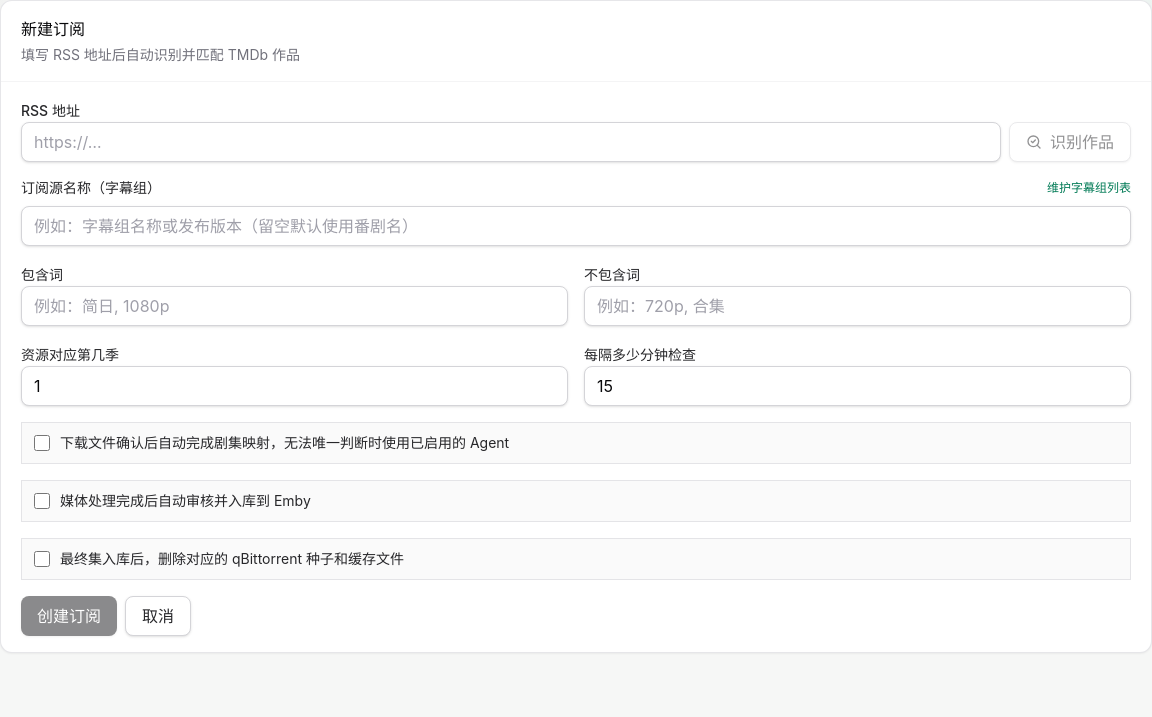
Scenario: CreateSubscriptionForm › uses the structured subtitle group extracted from the feed
The width and height of the screenshot is (1152, 717).
Type "https://feeds.example.test/show.xml" into the field labelled "RSS 地址" at (511, 142), box [21,122,1001,162]
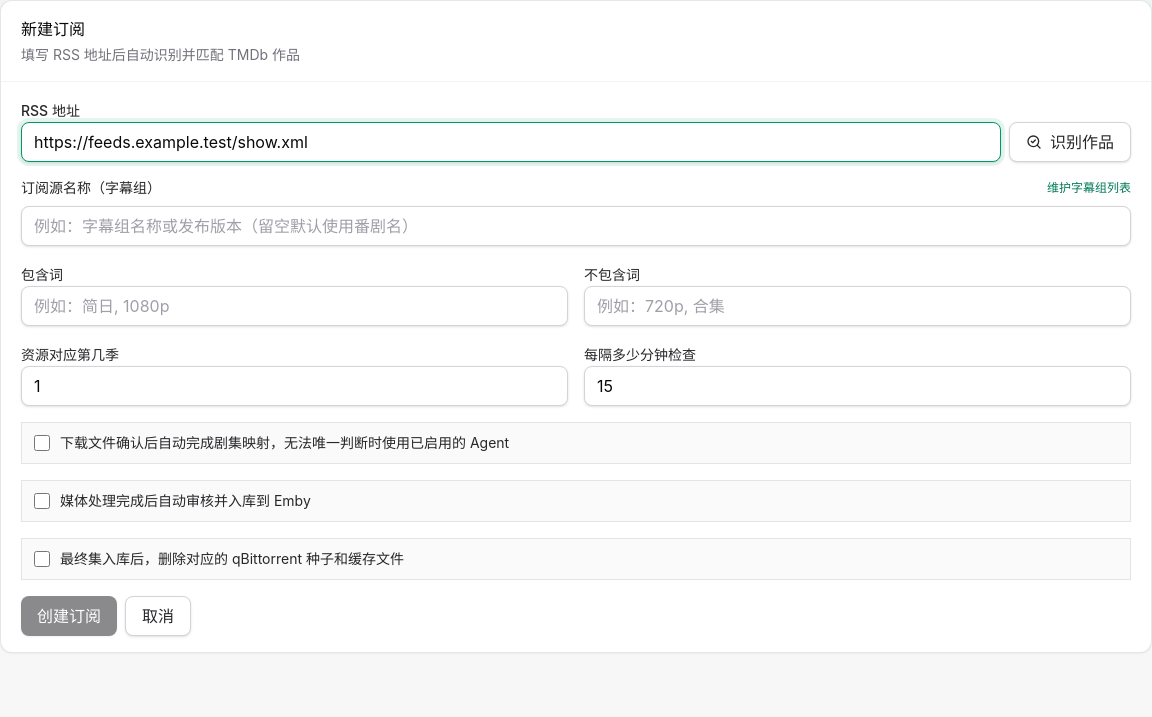
Click the button "识别作品" at (1070, 142), box [1009,122,1131,162]
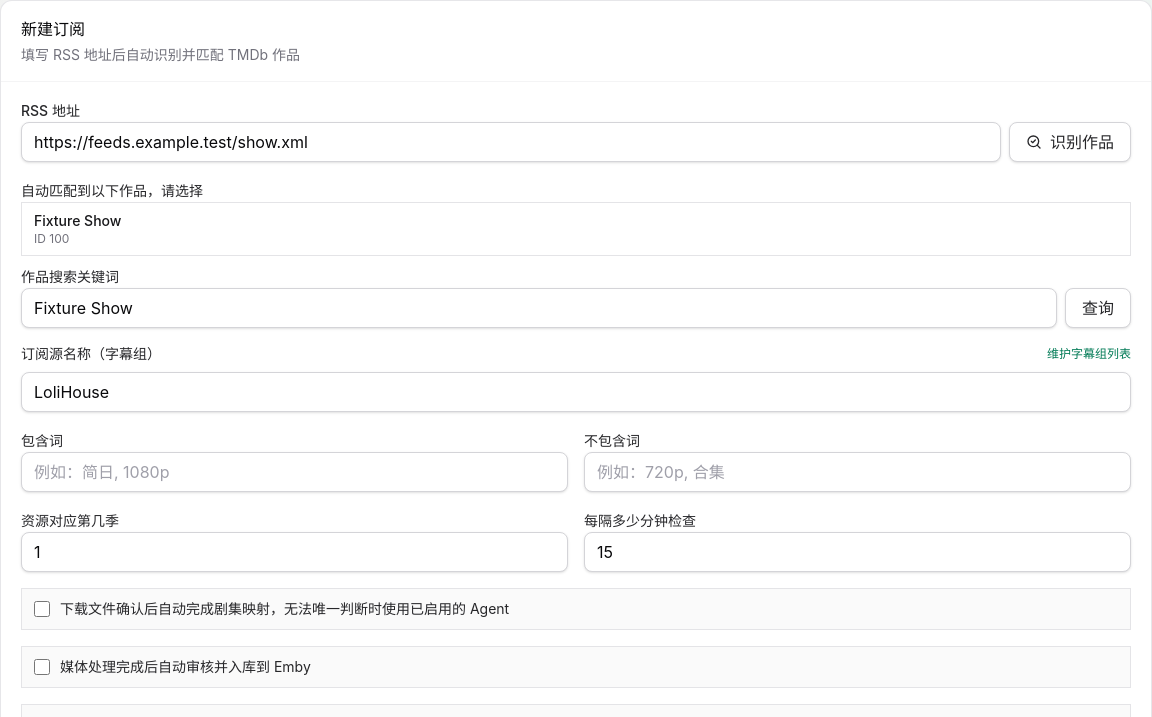
expect the button "Fixture Show ID 100" is shown: met, box [22,203,1130,255]
expect the field labelled "订阅源名称（字幕组）" holds "LoliHouse": met, box [21,372,1131,412]
